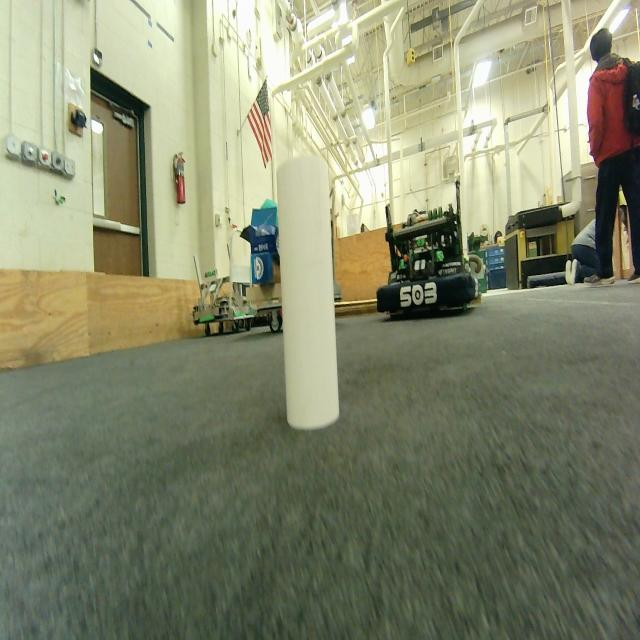coral: (268, 148, 352, 440)
